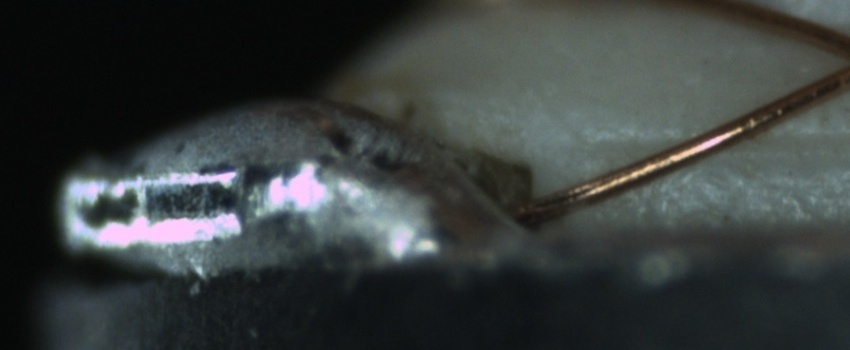CL: (830, 29, 850, 86)
DL: (572, 110, 849, 175)
